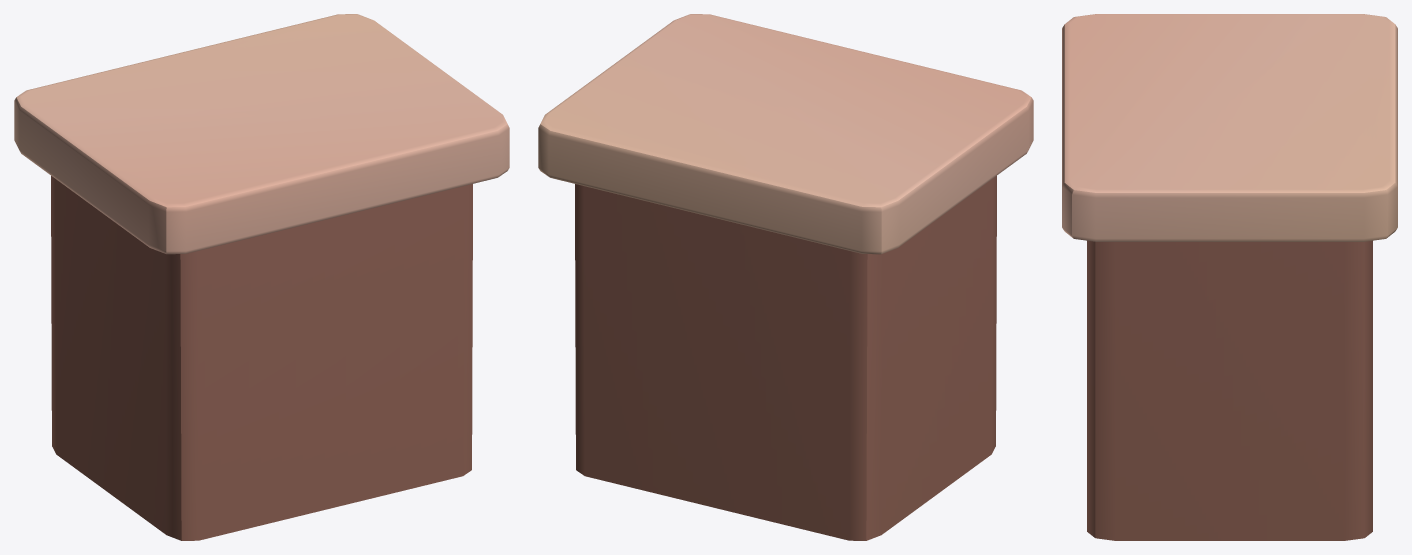
Rendered from Cupboard_3.fbx.
3 renders of one model, left to right at view 1: azimuth 30°, elevation 25°; view 2: azimuth 150°, elevation 25°; view 3: azimuth 270°, elevation 25°, orthographic. The views are drawn at different scales.
Visible parts, largest first — view 1: Cupboard_3; view 2: Cupboard_3; view 3: Cupboard_3.
Part boxes in pixels (x1,y1,x2,y2): Cupboard_3: [14, 14, 509, 540]; Cupboard_3: [538, 14, 1033, 540]; Cupboard_3: [1062, 14, 1397, 540].
Size of the model in its own units: 48.82 by 45.73 by 38.35.
